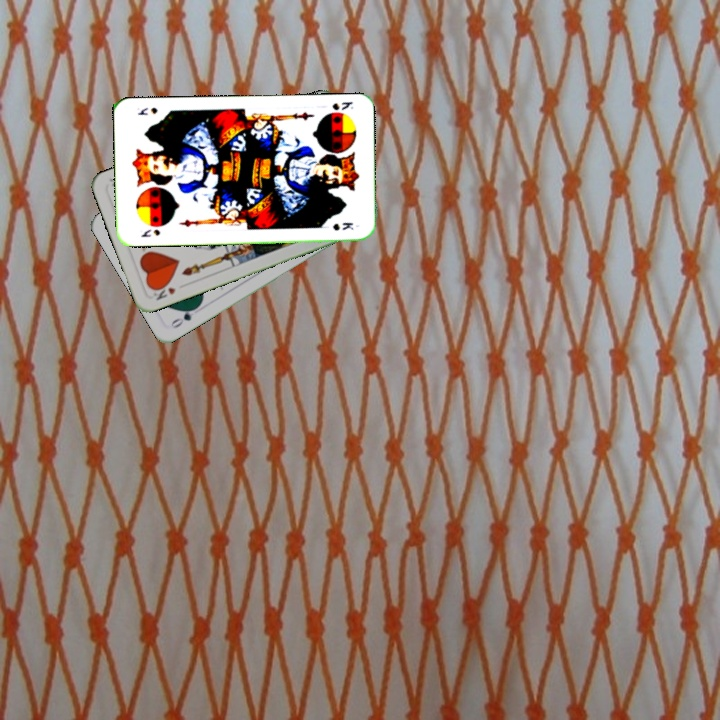GO: (166, 302, 201, 331)
HK: (149, 279, 179, 303)
SK: (328, 98, 355, 113), (137, 225, 163, 239)
